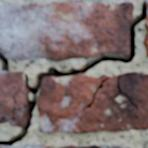brick: (38, 72, 147, 132), (0, 72, 25, 117), (1, 109, 24, 126), (61, 145, 123, 147), (144, 19, 147, 56), (12, 145, 52, 147)
broken_brick: (0, 1, 134, 61)
crack: (0, 0, 147, 147), (82, 76, 109, 110), (116, 76, 139, 110), (0, 51, 10, 72)
